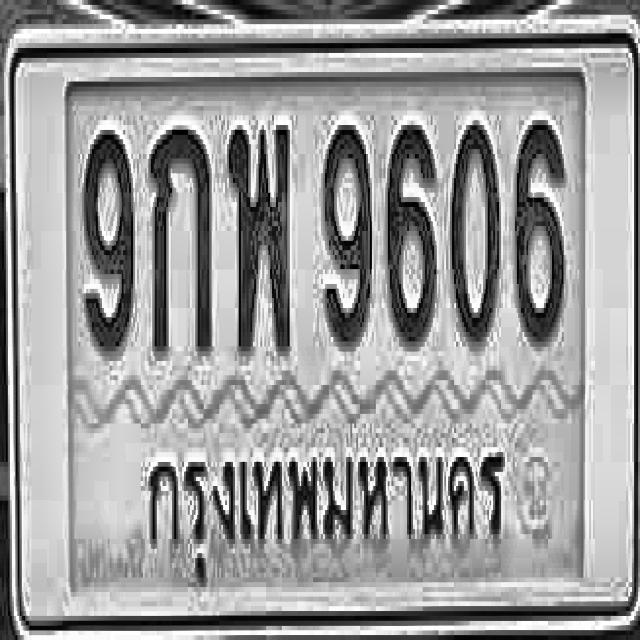license-plate: (7, 22, 640, 640)
